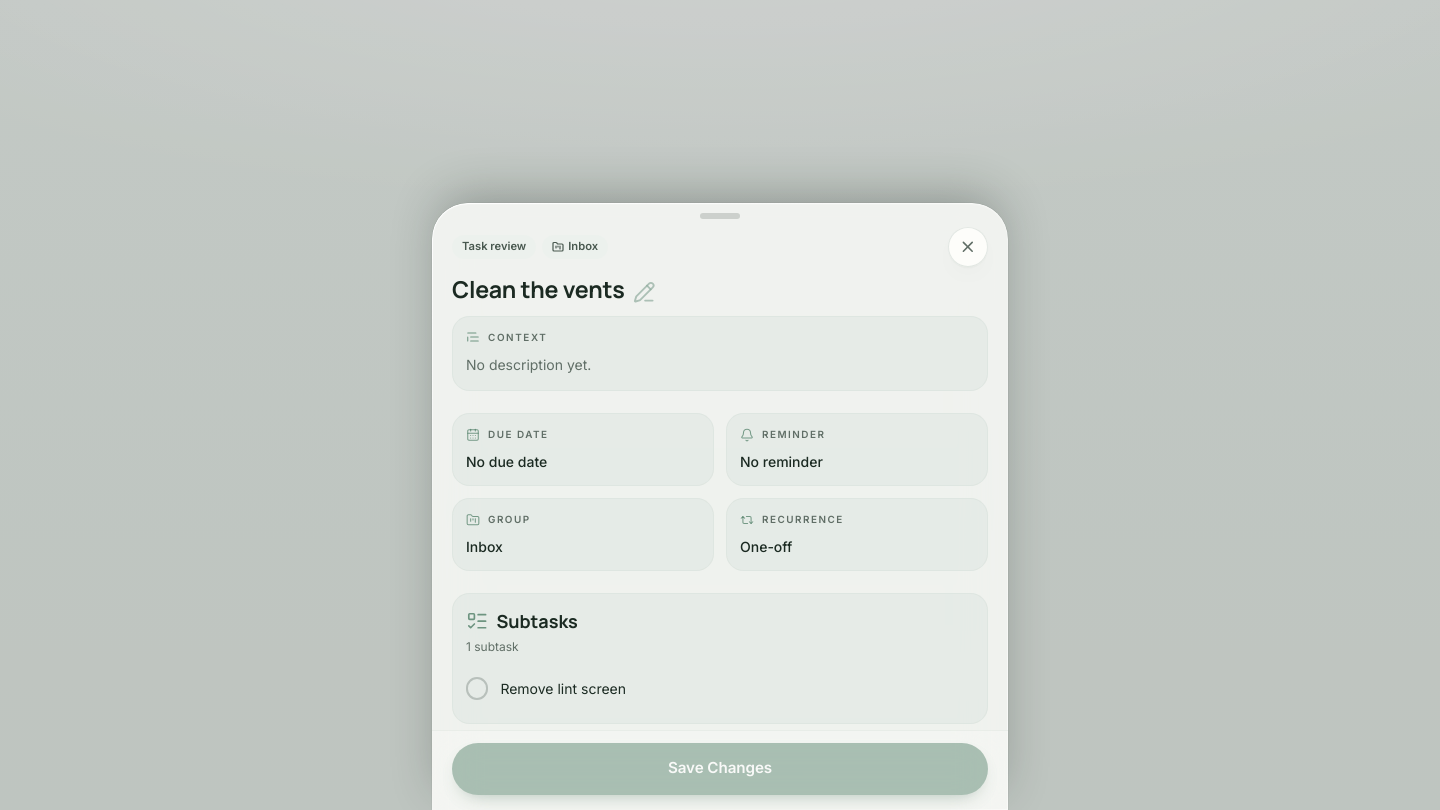
Test: EditExtractedTaskModal › renders added subtasks in order with the composer input
The width and height of the screenshot is (1440, 810).
Double-click the text "Subtasks": point(537, 621) [496, 607, 578, 635]
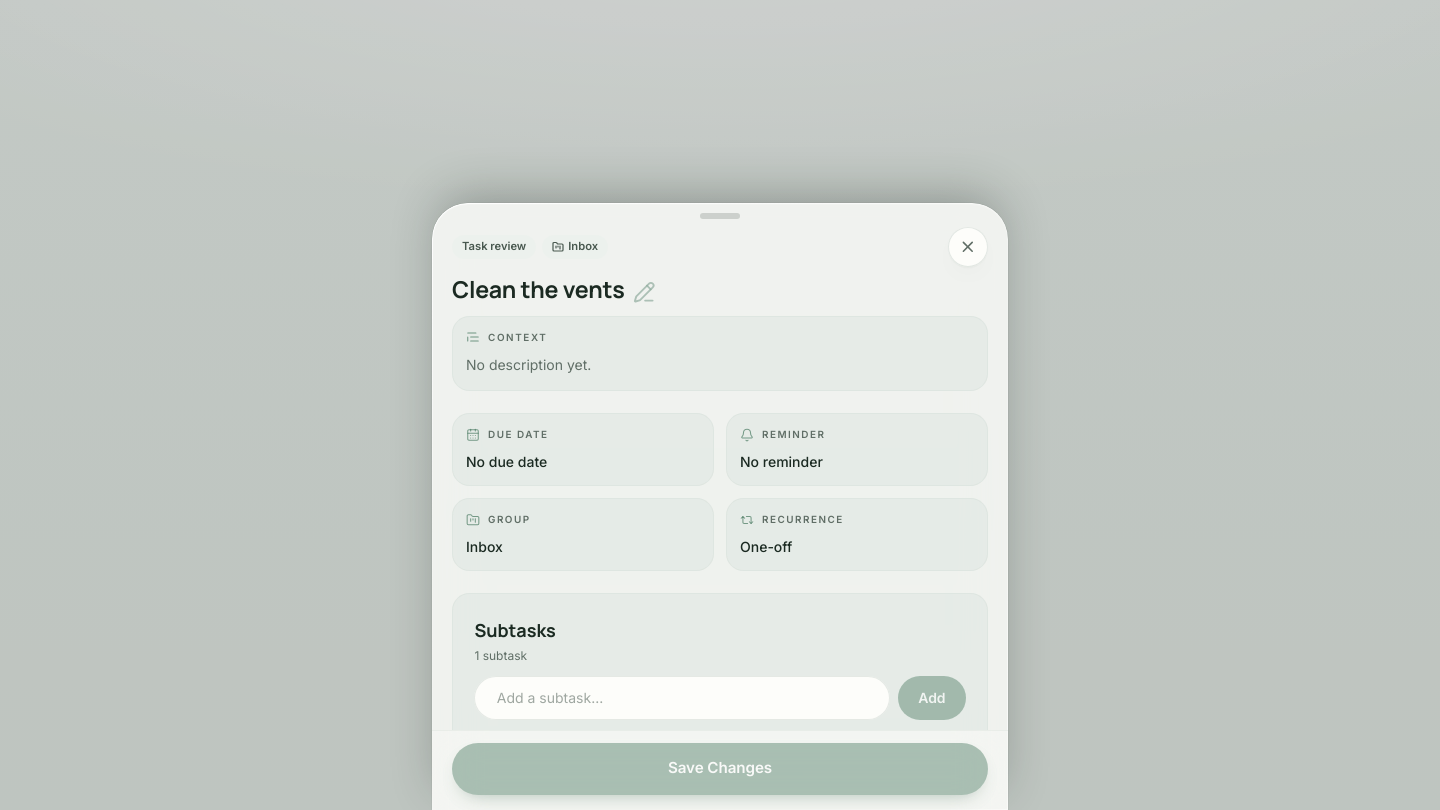
In the field with placeholder "Add a subtask...": point(682, 697) [474, 675, 890, 719], type "Newest subtask"
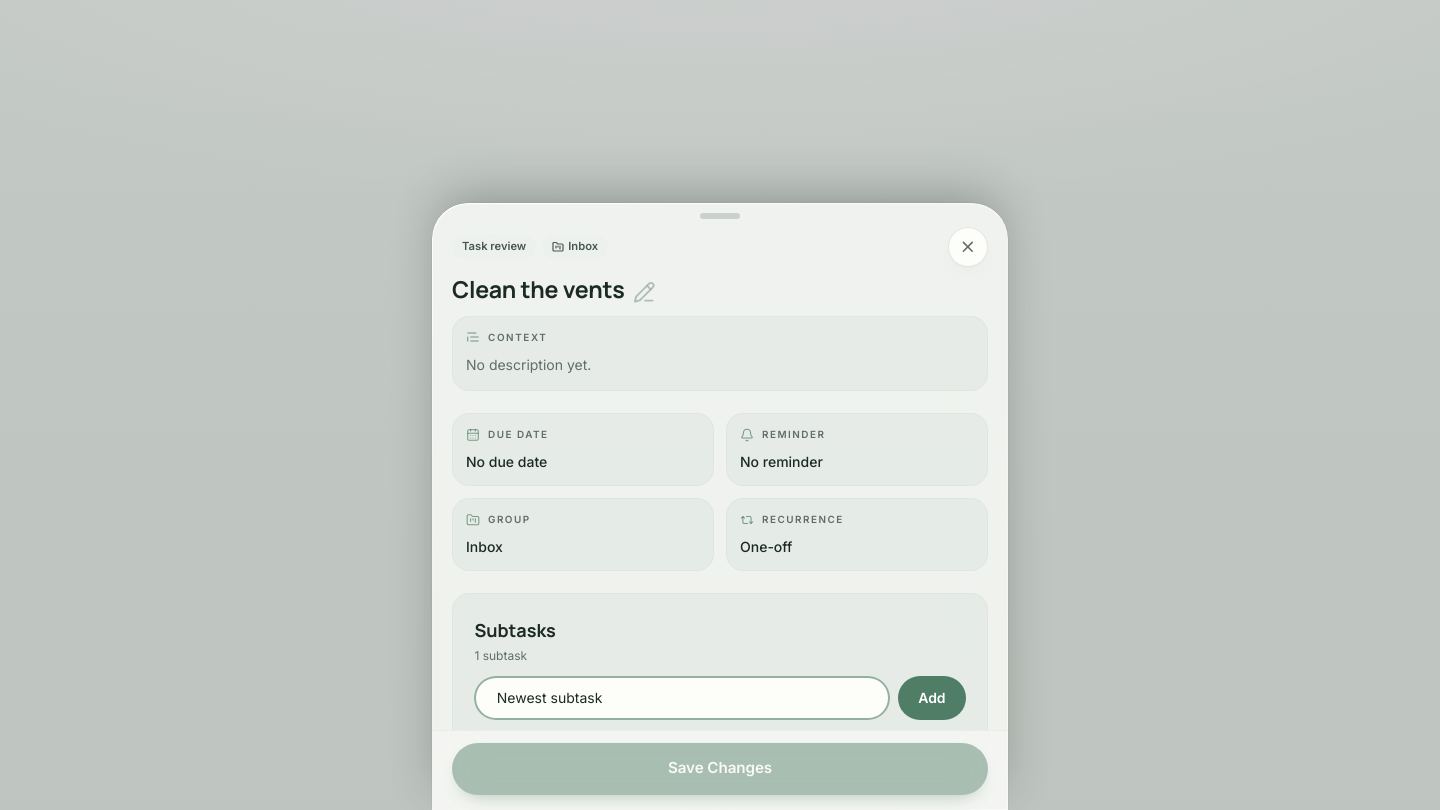
Click the button "Add": point(932, 697) [898, 675, 966, 719]
(page scrolled)
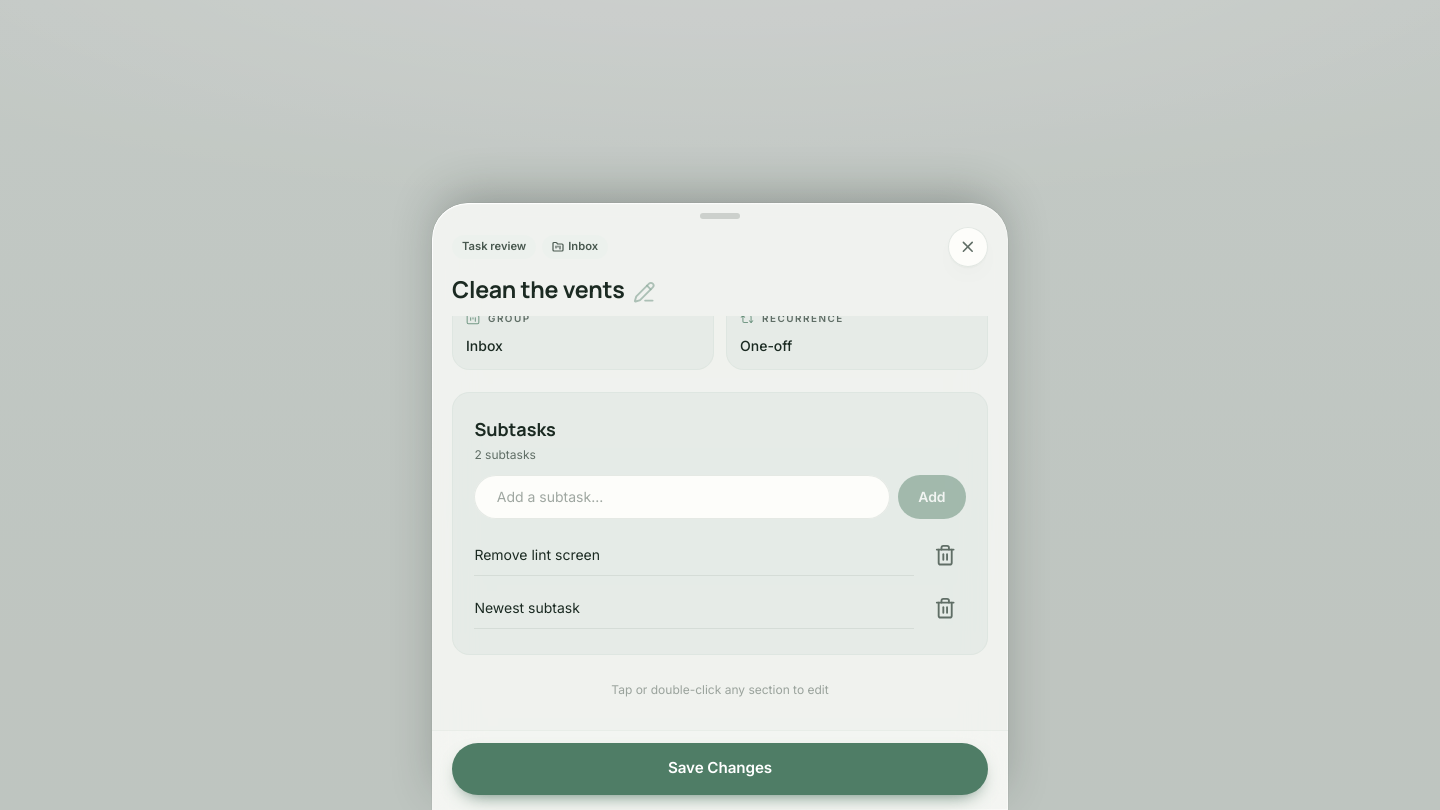
Expected: the field named "Subtask Newest subtask" holds "Newest subtask", [474, 587, 914, 628]
